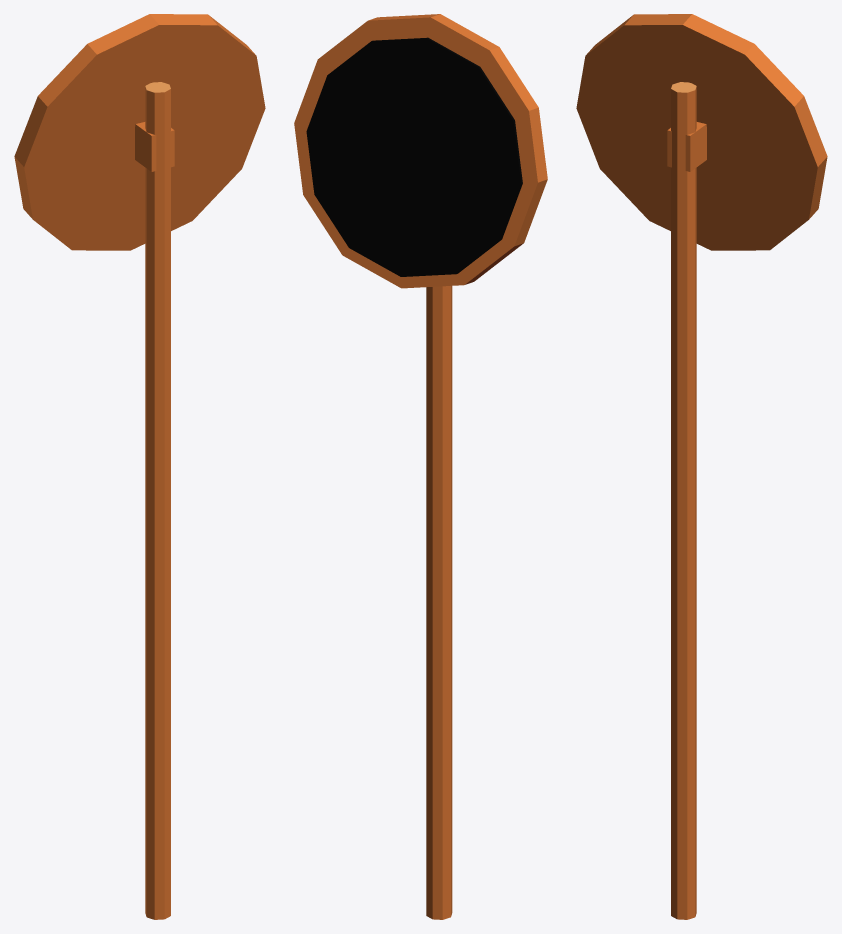
Rendered from CurveMirror.fbx.
The picture shows the model from 3 angles, left to right: view 1: azimuth 30°, elevation 25°; view 2: azimuth 150°, elevation 25°; view 3: azimuth 330°, elevation 25°; orthographic projection.
Parts seen in each view (by area): view 1: Frame.003, Pole.001; view 2: Glass, Pole.001, Frame.003; view 3: Frame.003, Pole.001.
Part boxes in pixels (x1,y1,x2,y2): Frame.003: [14, 14, 265, 250]; Pole.001: [145, 82, 170, 919]; Glass: [306, 37, 522, 276]; Pole.001: [426, 286, 452, 919]; Frame.003: [294, 14, 547, 288]; Frame.003: [576, 14, 827, 250]; Pole.001: [671, 82, 696, 919].
Bounding box in the file's own units: 0.84 × 2.97 × 0.2687.
